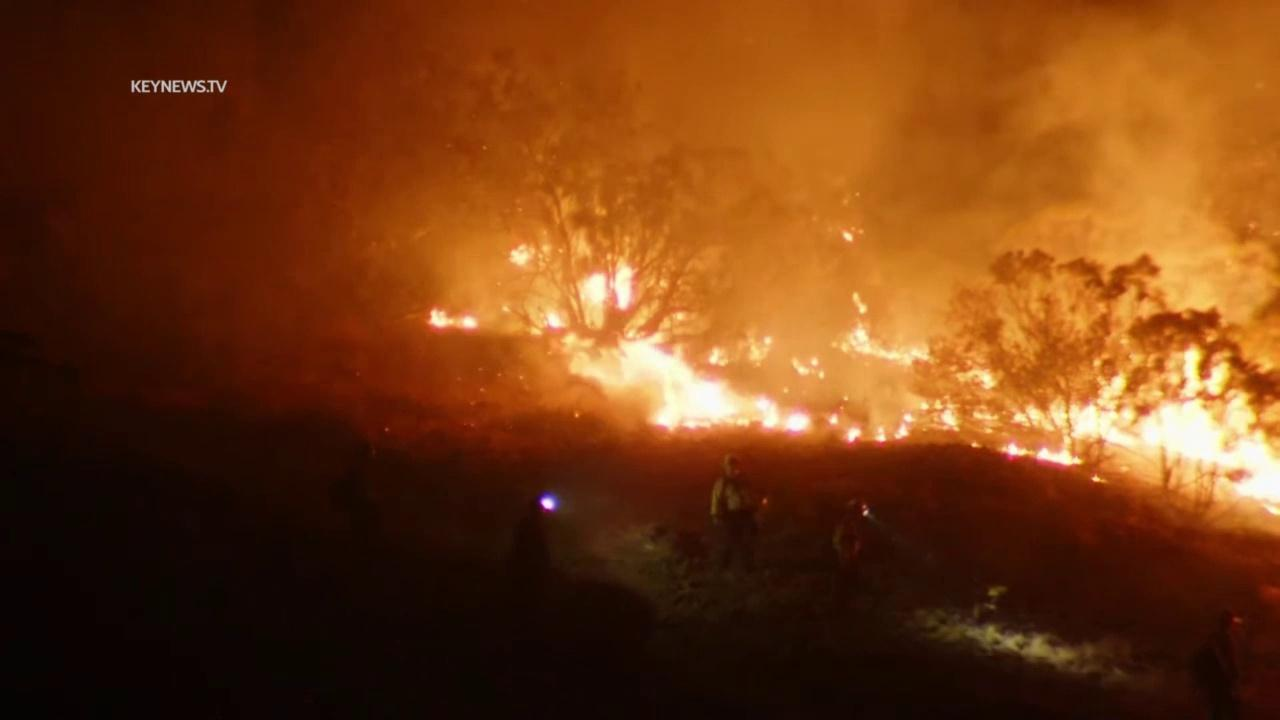fire: (919, 342, 1280, 519), (606, 330, 822, 432), (828, 290, 936, 361), (579, 262, 633, 312), (425, 305, 481, 331), (506, 243, 541, 273), (790, 355, 824, 381), (893, 409, 915, 442), (706, 345, 733, 367), (543, 310, 568, 332), (846, 423, 864, 445), (873, 424, 889, 446), (840, 227, 857, 245), (1087, 473, 1109, 484), (828, 411, 842, 427), (967, 440, 983, 450)
smoke: (0, 0, 1280, 525)
